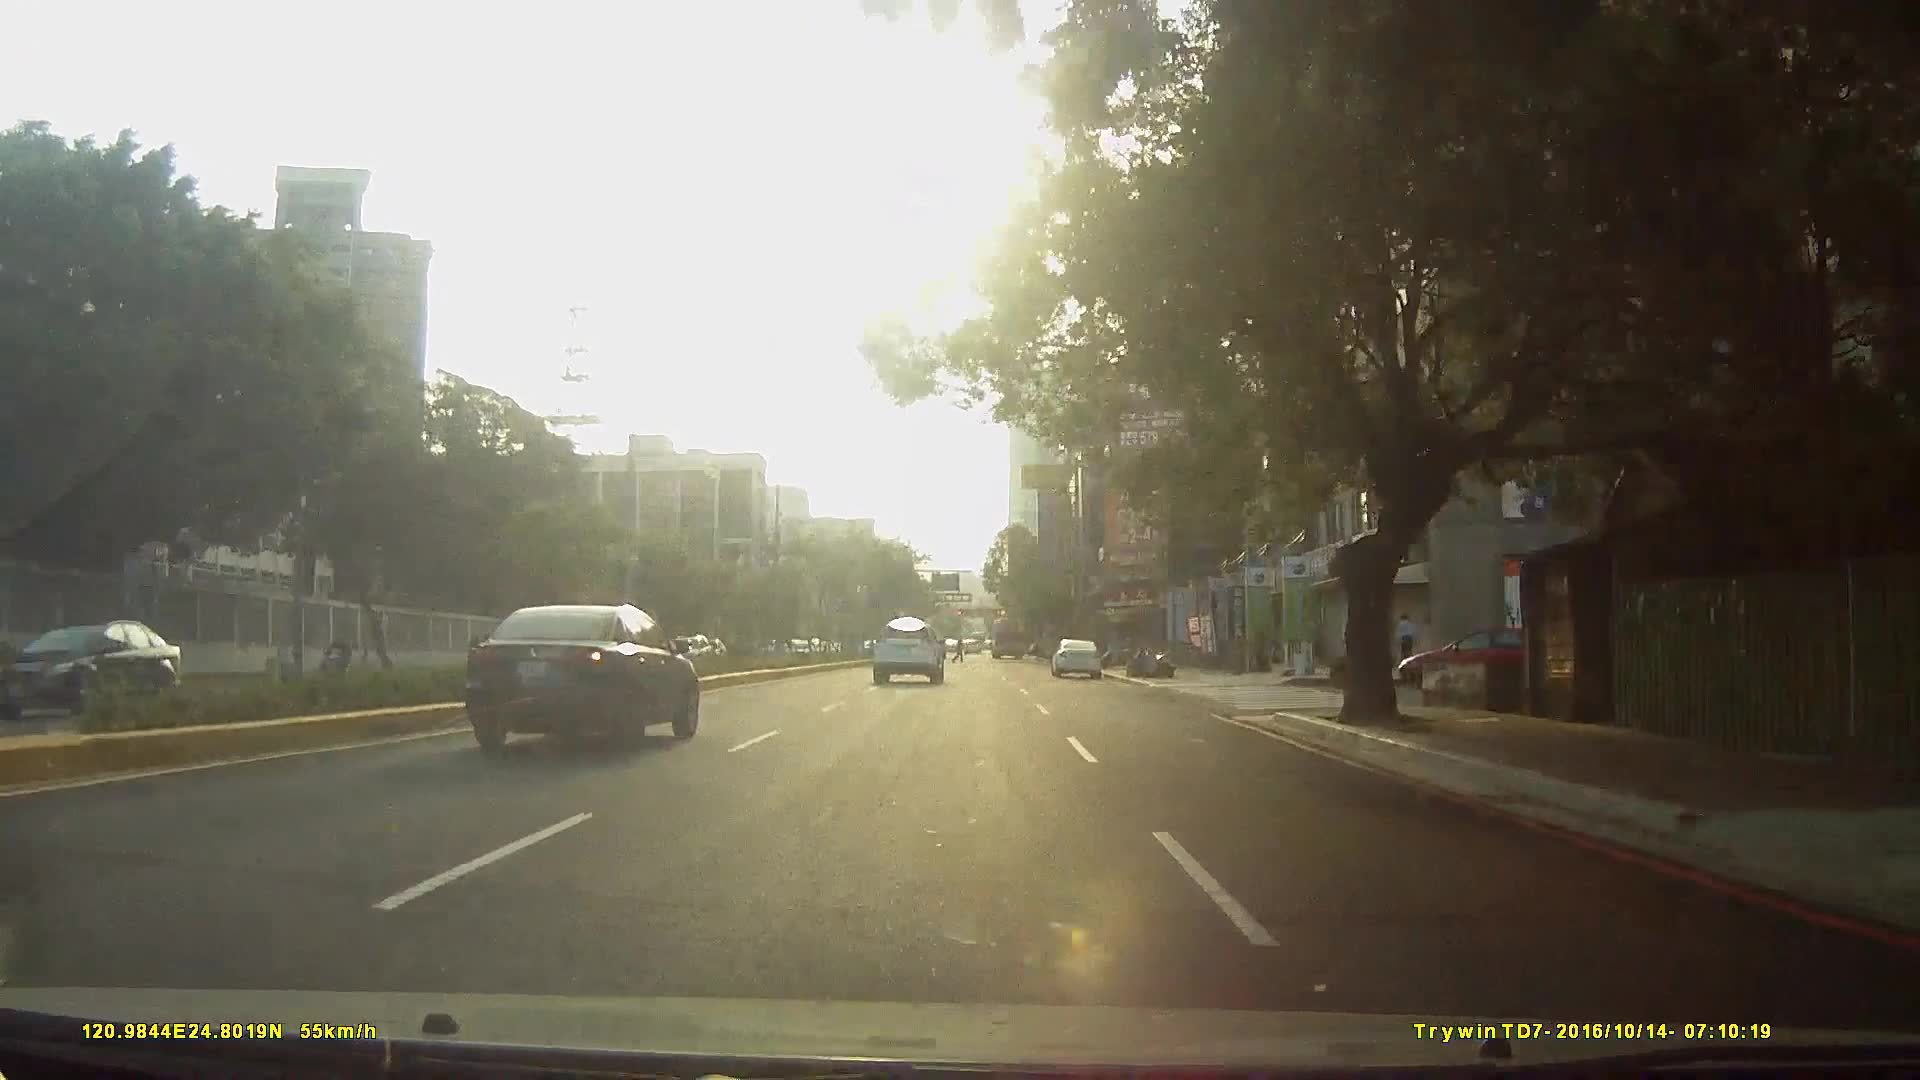pedestrian: (1397, 614, 1418, 672)
rider: (315, 630, 360, 685)
vehicle: (466, 597, 703, 750), (23, 606, 198, 725), (1394, 620, 1583, 689), (871, 615, 947, 684), (1050, 632, 1104, 674), (988, 611, 1029, 656)
